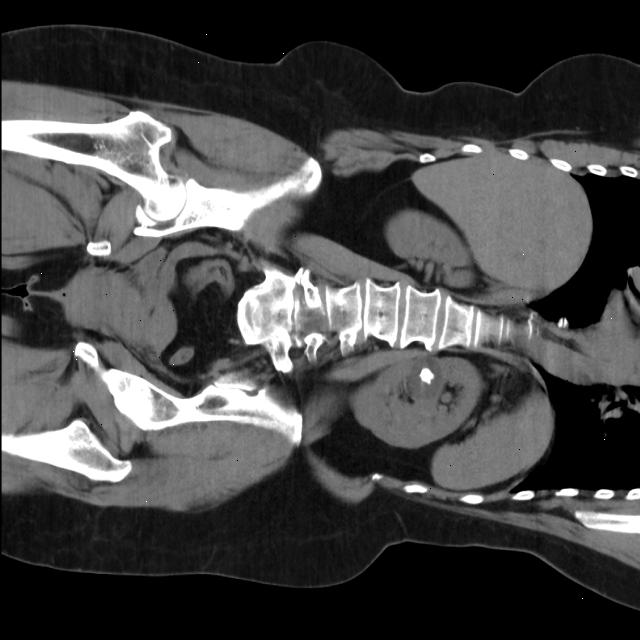kidneystone: (419, 367, 434, 384)
